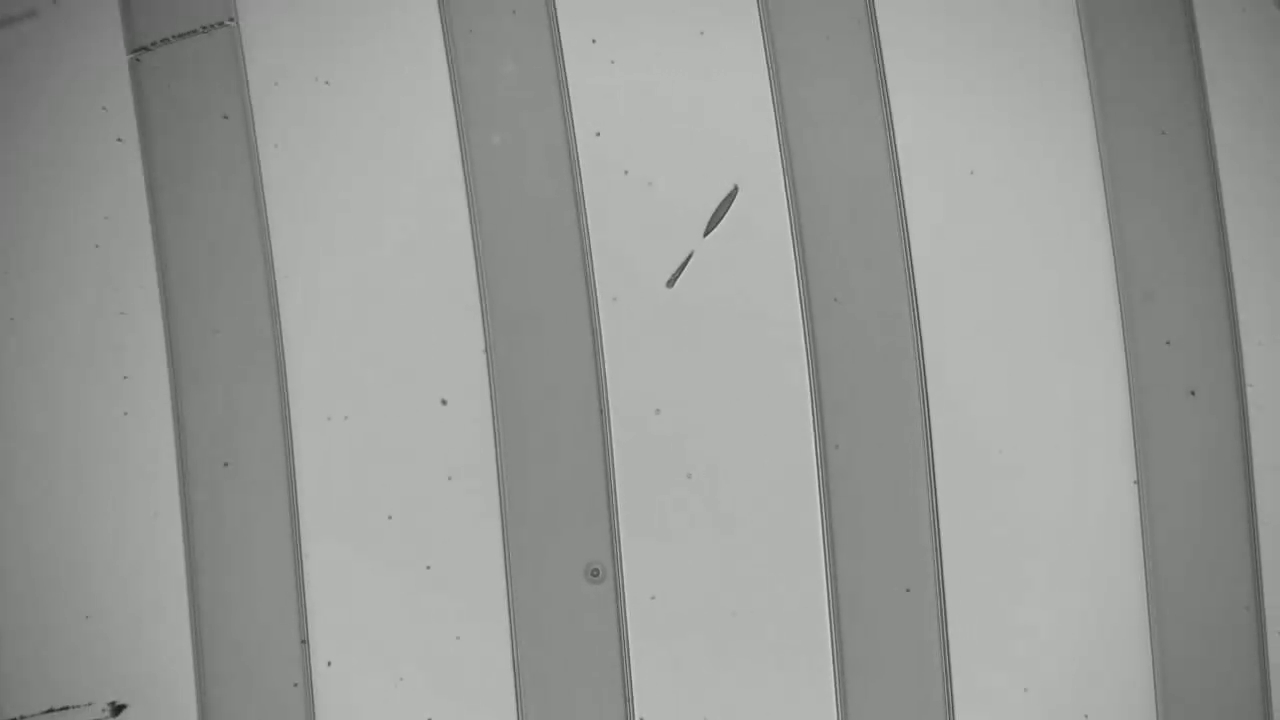scratch: (131, 19, 228, 53)
